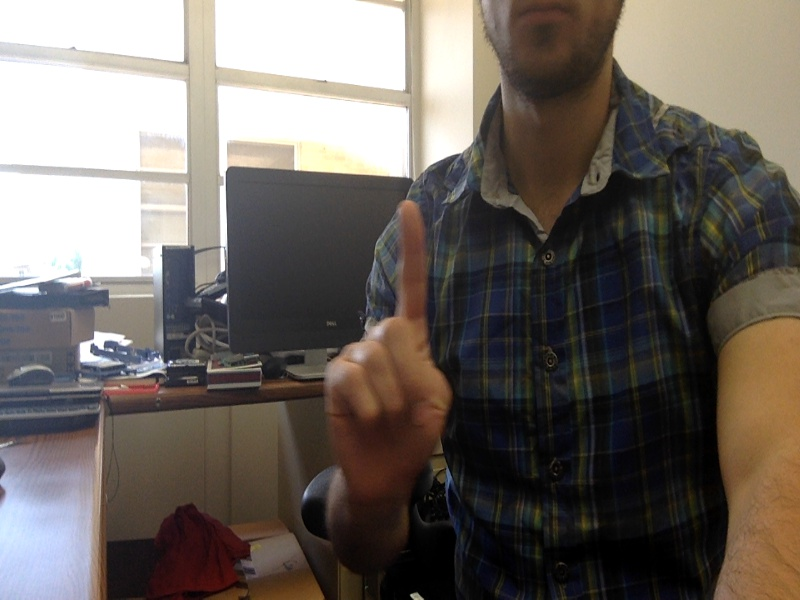1-hand: (325, 203, 451, 516)
